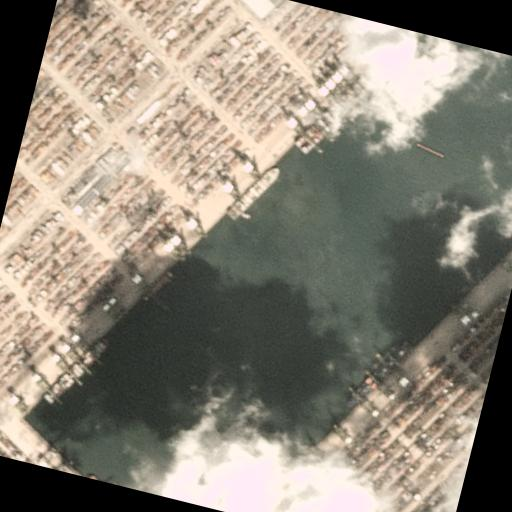ship: (293, 66, 366, 163), (40, 328, 110, 416), (340, 334, 412, 419), (222, 155, 282, 231), (456, 215, 474, 261)
